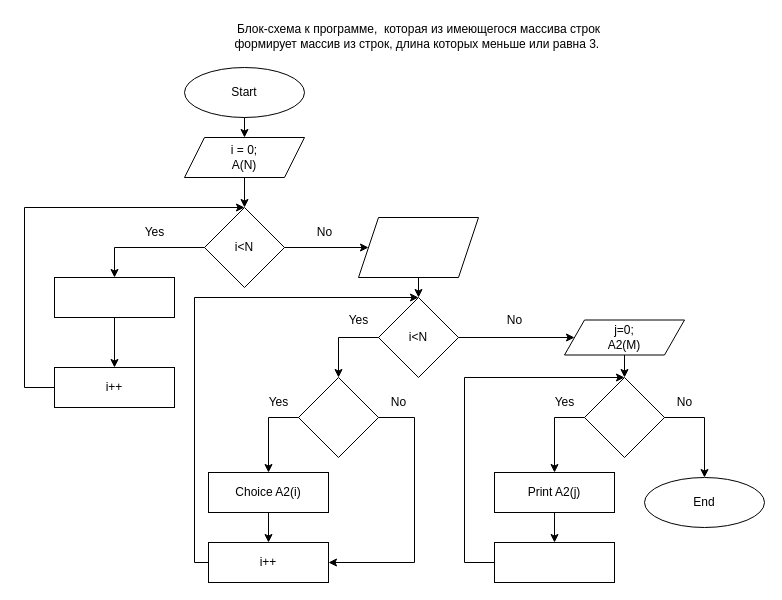
Some shapes in this 782 by 600 pixel diagram are drawn without their labels. Each missing label, with the centre of its shape:
count<=x: point 338,417
int x = 3; int i = 0; int count =0; A2(empty): point 418,247
j++: point 554,562
j<M: point 624,417
Print A (i): point 114,297
